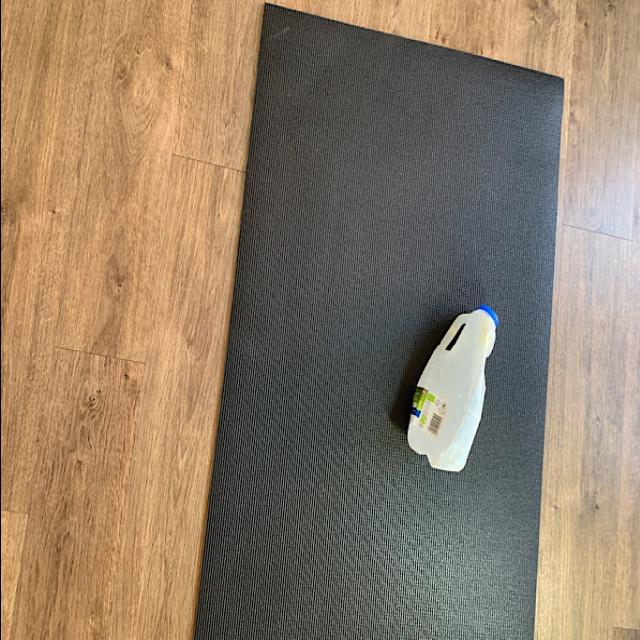HDPEM: (398, 302, 500, 476)
